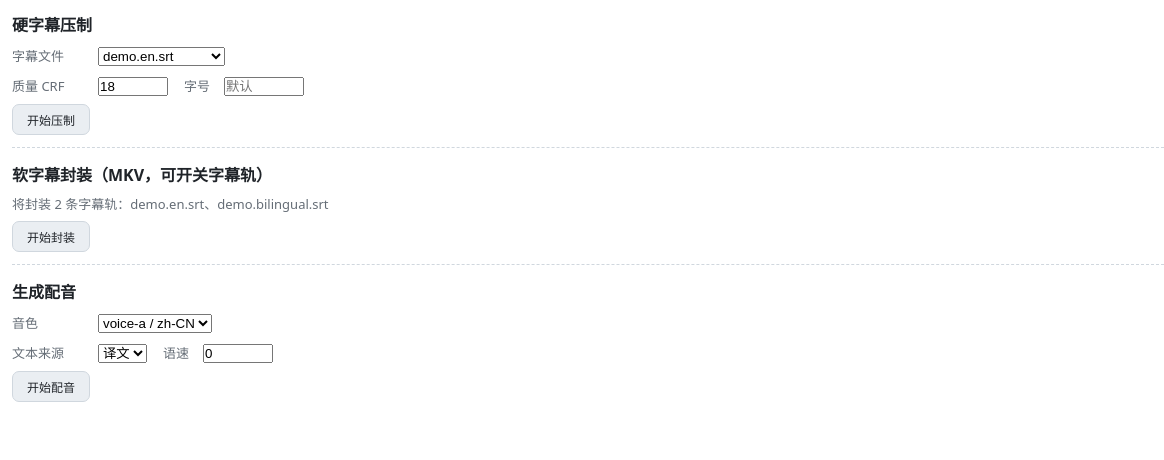
MediaTools › 正常配音不显示任何警告
Click the button "开始配音" at [51, 386], box [12,371,90,402]
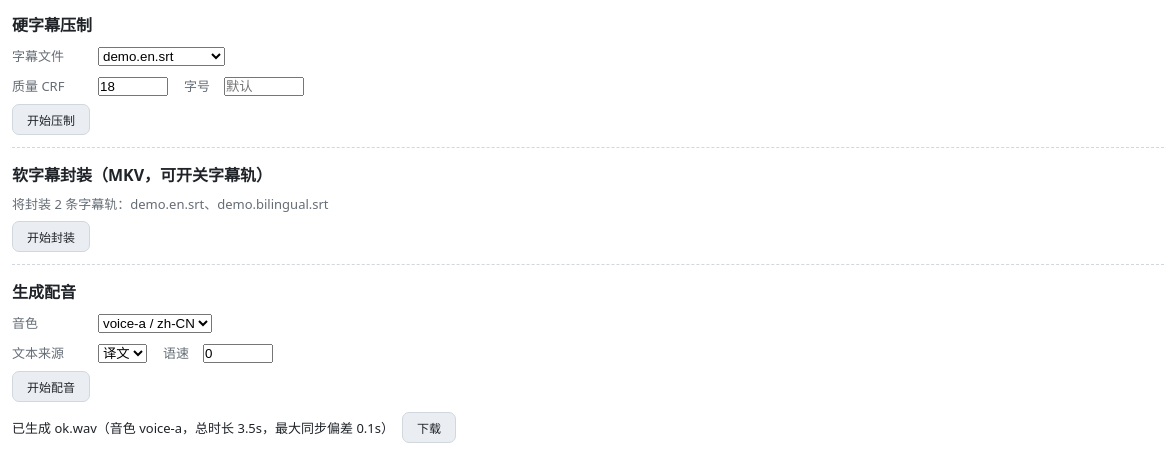
expect the text "已生成 ok.wav（音色 voice-a，总时长 3.5s，最大同步偏差 0.1s） 下载" is shown: met, box [12,412,456,443]
